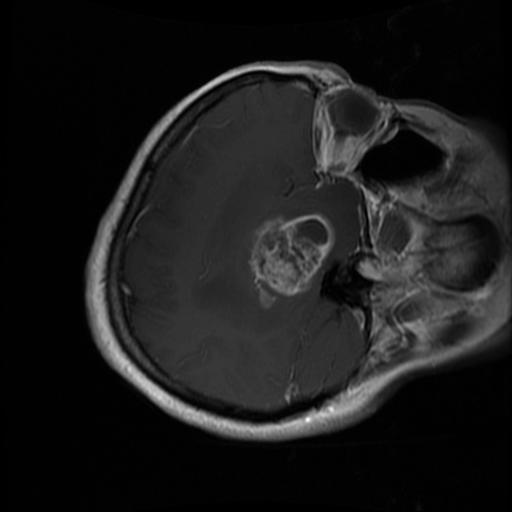glioma: (250, 210, 336, 312)
